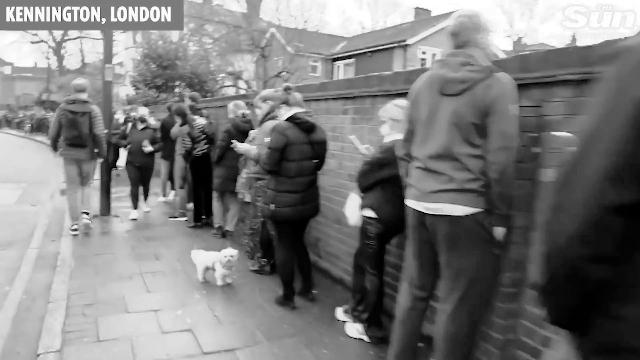berdiri: (386, 8, 534, 360), (336, 90, 404, 356), (256, 82, 326, 318)
